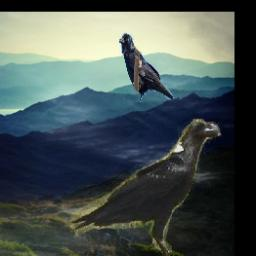Crow: (68, 120, 222, 256), (119, 32, 174, 102)
